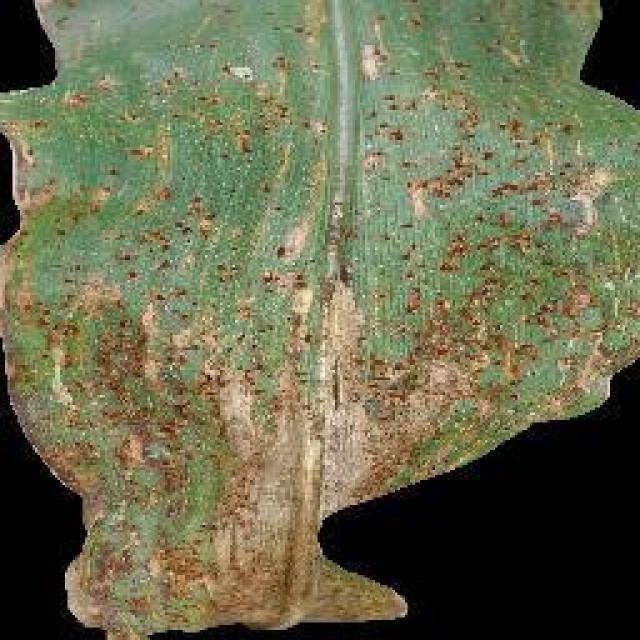Corn Common Rust: (23, 95, 497, 575)
